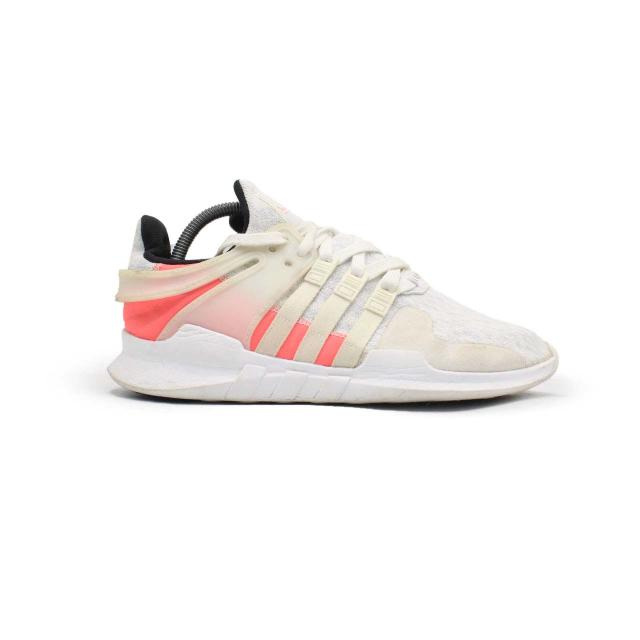heel: (111, 213, 180, 338)
midsole: (107, 324, 561, 405)
uppersole: (180, 177, 550, 372)
